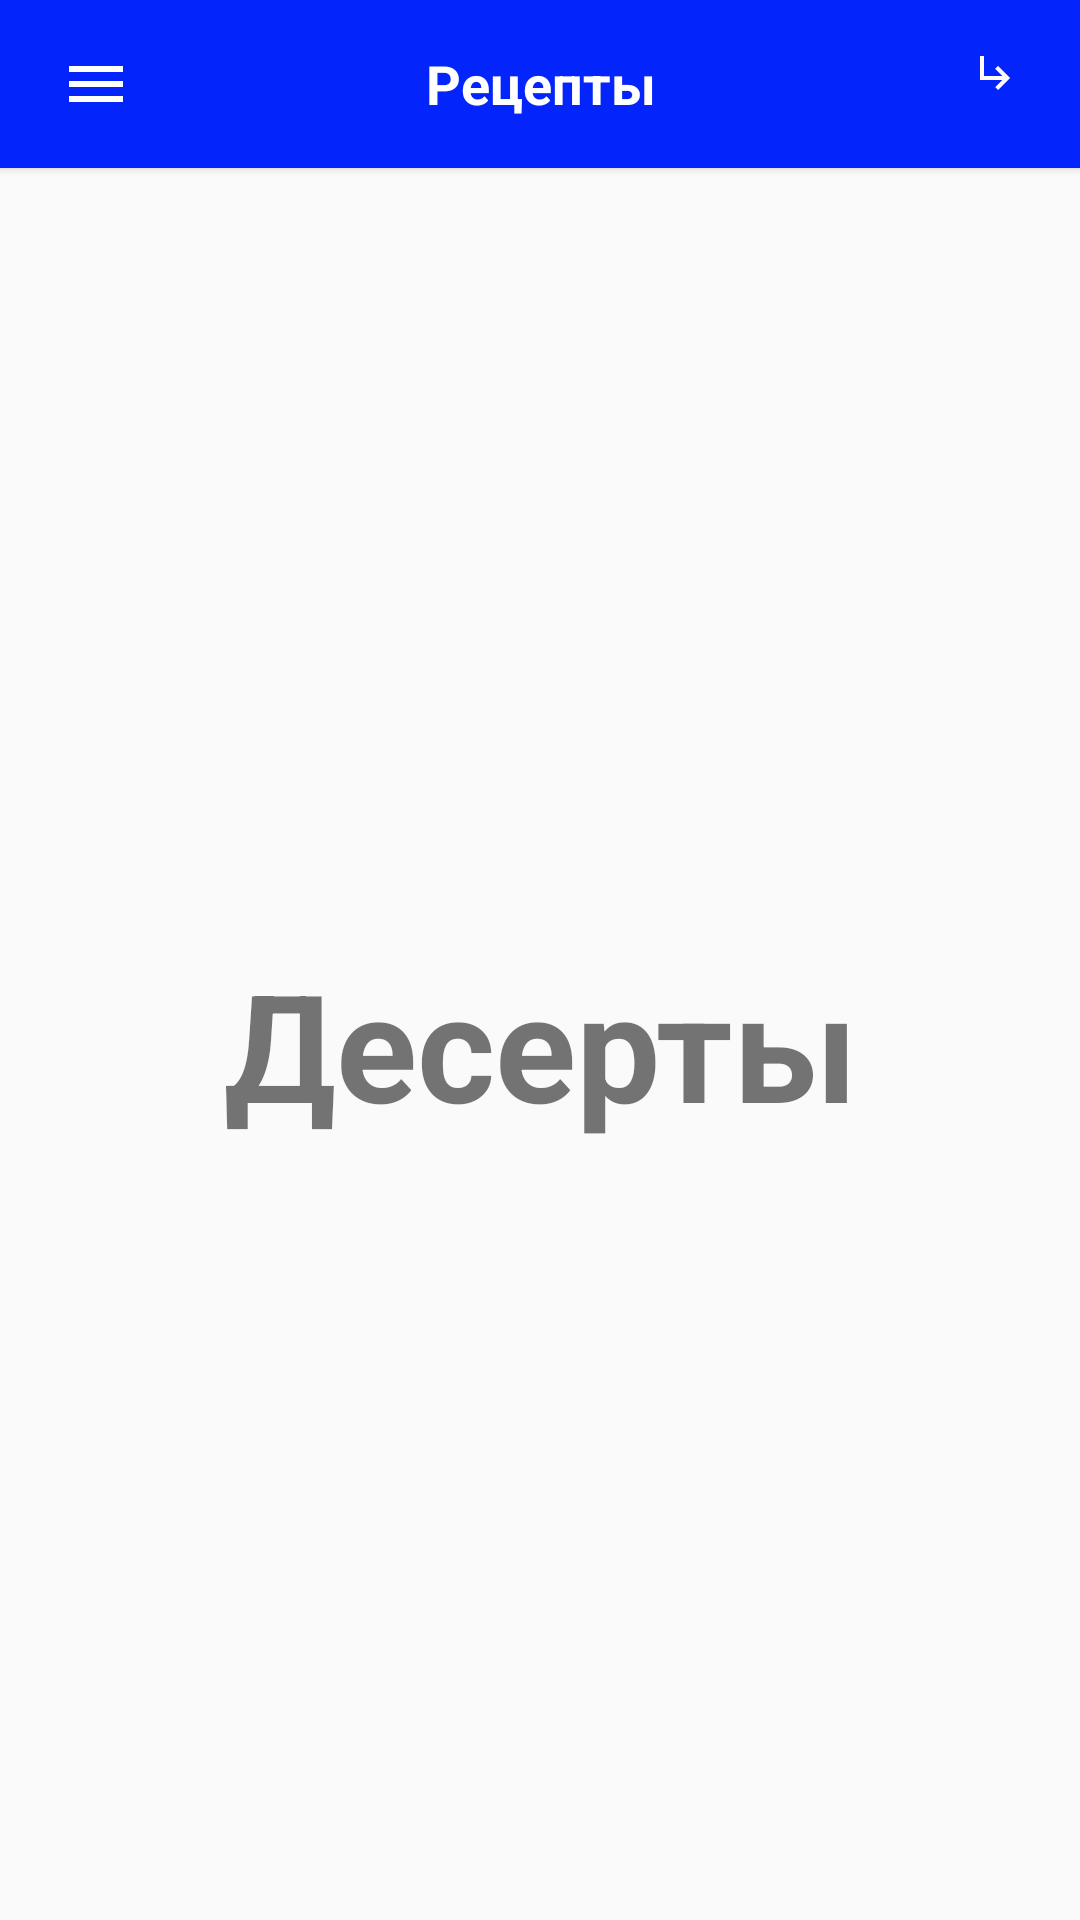

Icons on this 1080px x 1920px Android screen, each with the point to tap as (x=x, y=y):
menu: (x=96, y=84)
subdirectory arrow right: (x=995, y=73)
